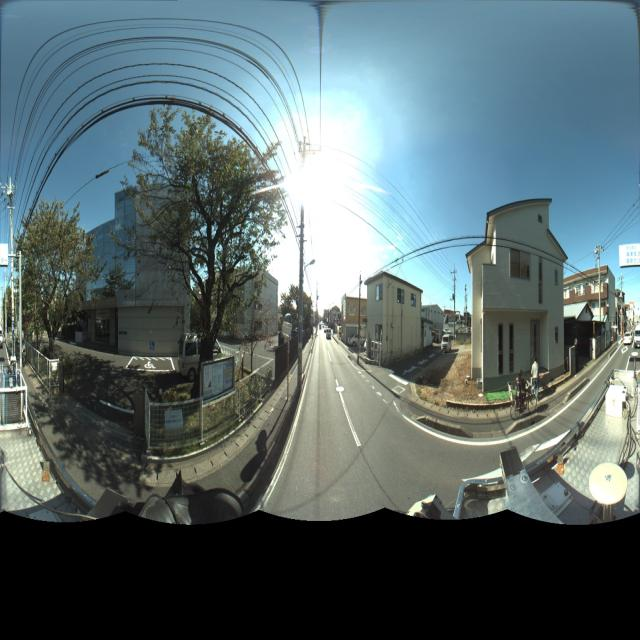b_1: (467, 178, 564, 390), (365, 270, 423, 365), (564, 251, 619, 337), (417, 297, 450, 339), (341, 290, 368, 340)
b_2: (68, 168, 198, 359), (192, 246, 284, 350)
